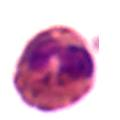monocyte: (12, 21, 99, 110)
